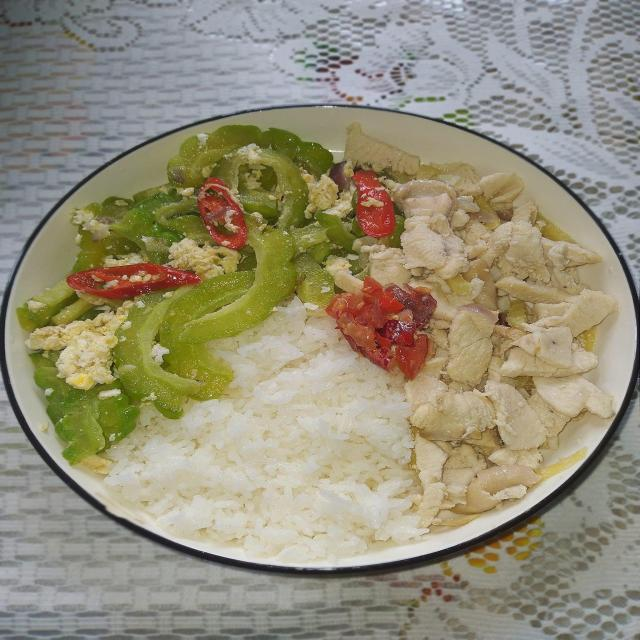Chicken: (346, 126, 617, 526)
Plate: (4, 106, 639, 572)
Rice: (102, 306, 422, 555)
Vegetables: (20, 126, 398, 474)
